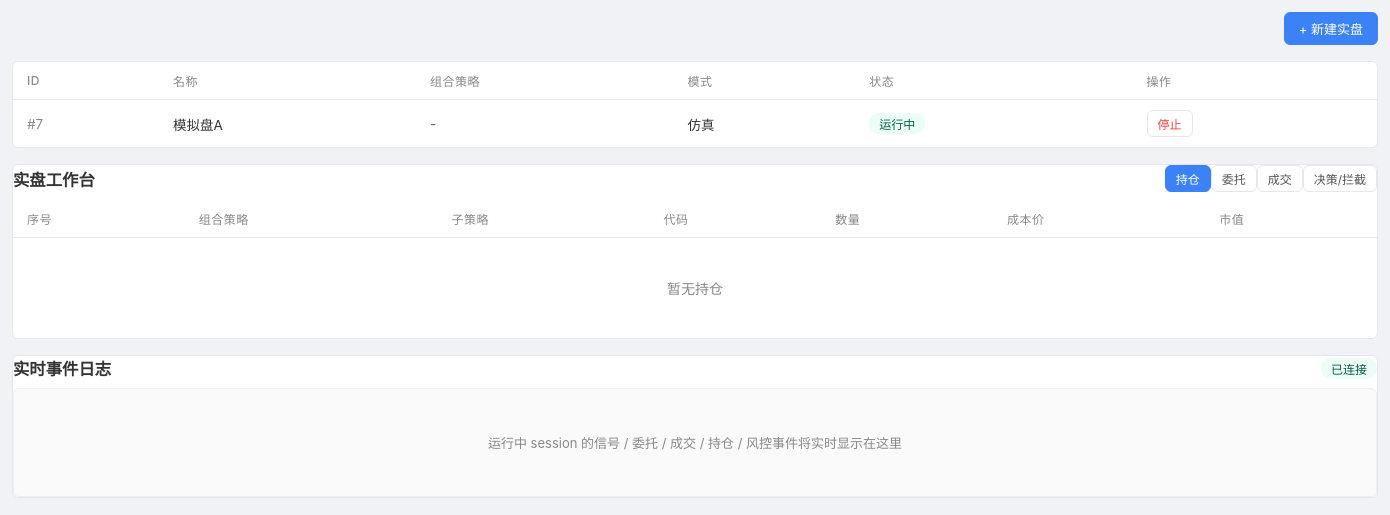
it: LiveSessions.vue 工作台(B4b) › 持仓 tab 切到委托 → 显示委托历史;切到成交 → 显示成交历史
The width and height of the screenshot is (1390, 515).
Click the button "委托" at (1234, 178), box [1211, 165, 1257, 192]
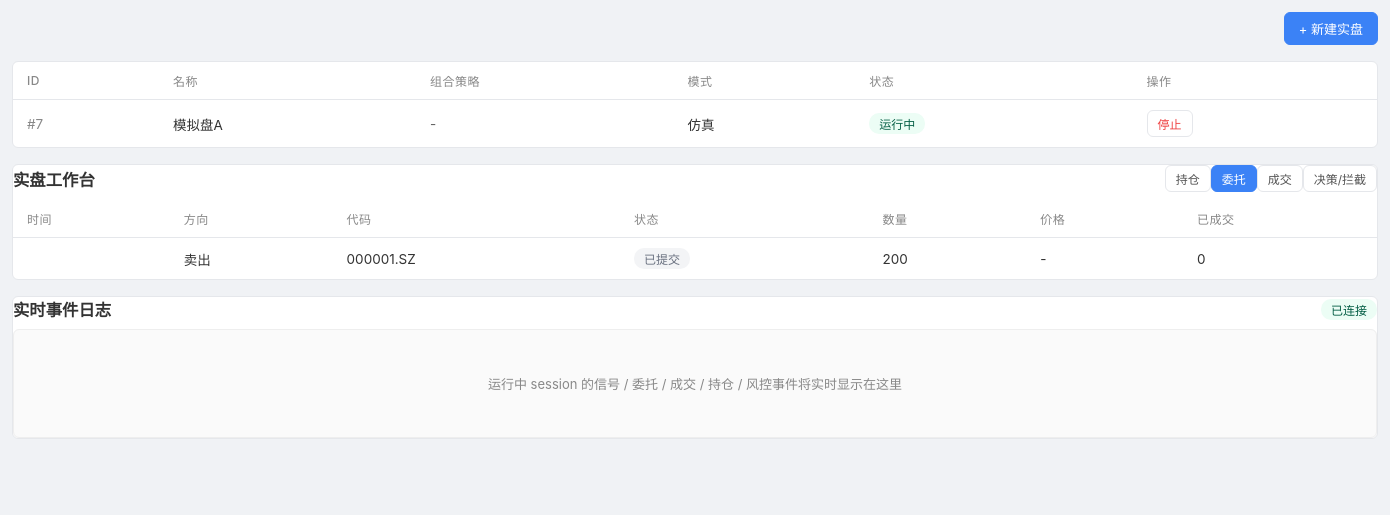
expect the text "000001.SZ" is shown: met, box [333, 238, 620, 279]
expect the text "已提交" is shown: met, box [634, 248, 690, 269]
Click the button "成交" at (1280, 178), box [1257, 165, 1303, 192]
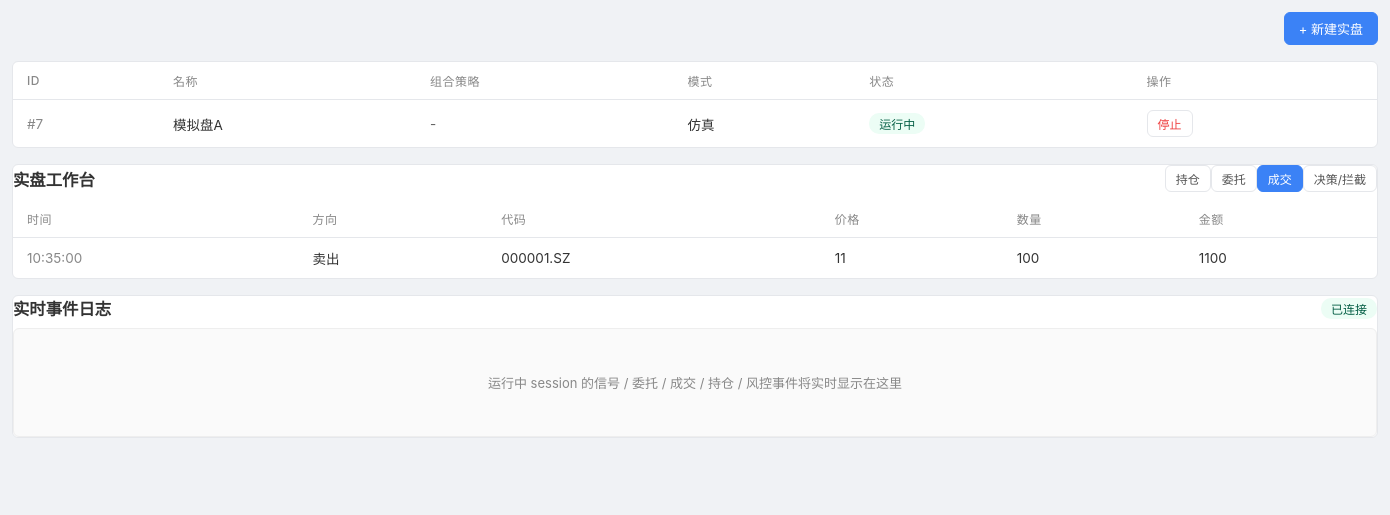
expect the text "1100" is shown: met, box [1185, 238, 1377, 278]
